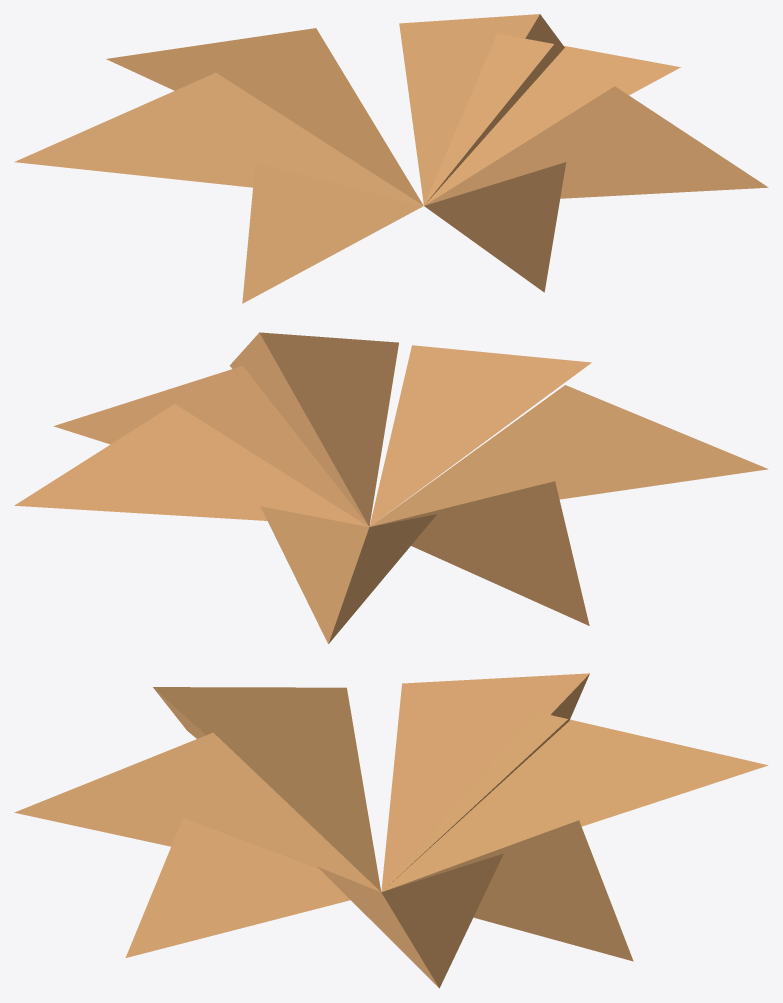
The model's file is plant_orange.glb.
The picture shows the model from 3 angles, top to bottom: view 1: azimuth 30°, elevation 25°; view 2: azimuth 150°, elevation 25°; view 3: azimuth 270°, elevation 25°; orthographic projection. The views are drawn at different scales.
Parts seen in each view (by area): view 1: plant_orange; view 2: plant_orange; view 3: plant_orange.
Boxes of the visible parts, bbox=[...] form: plant_orange: bbox=[14, 14, 768, 303]; plant_orange: bbox=[14, 332, 768, 643]; plant_orange: bbox=[14, 673, 768, 988].
Bounding box in the file's own units: 1.26 × 0.2 × 1.27.
